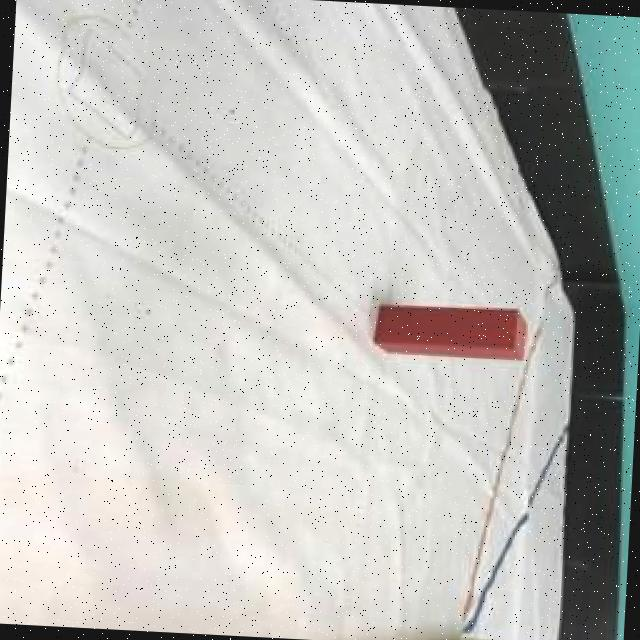redbox: (371, 298, 530, 366)
